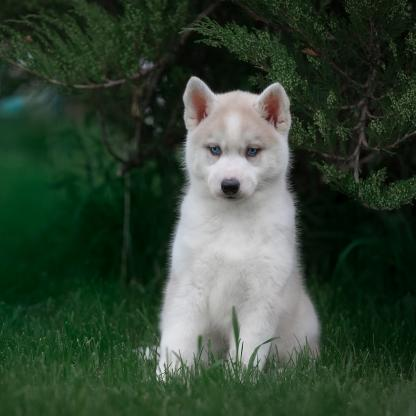husky: (152, 78, 324, 383)
